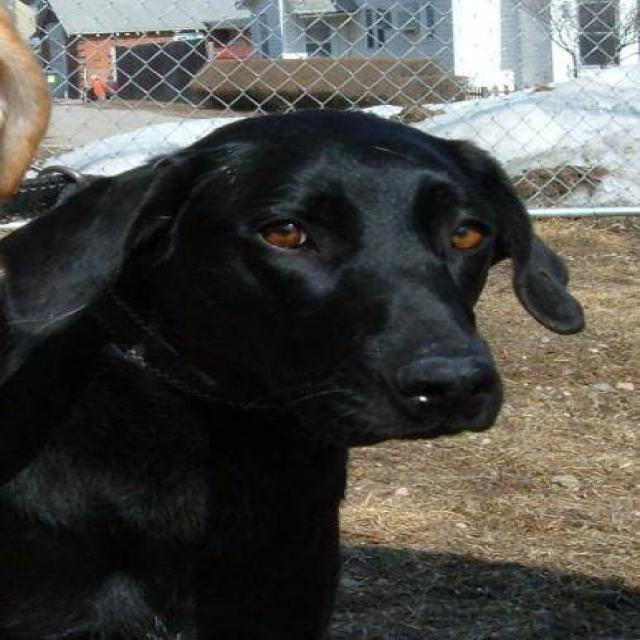dog: (0, 105, 585, 639)
